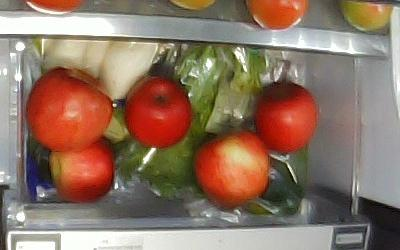apple: (25, 67, 113, 153), (192, 131, 270, 211), (124, 74, 193, 149), (253, 81, 318, 153), (48, 134, 115, 202)
